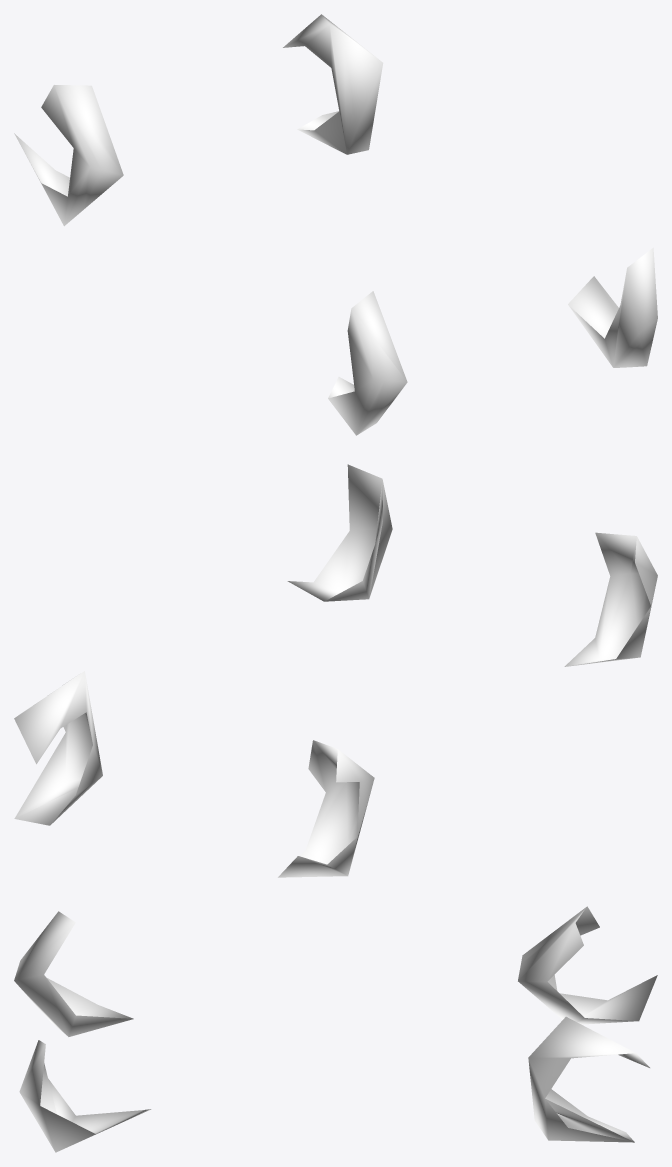
The picture shows the model from 3 angles, top to bottom: view 1: azimuth 30°, elevation 25°; view 2: azimuth 150°, elevation 25°; view 3: azimuth 270°, elevation 25°; orthographic projection. The views are drawn at different scales.
Bounding box in the file's own units: 1.5 × 0.648 × 3.07.
1 material, 1 textured.
